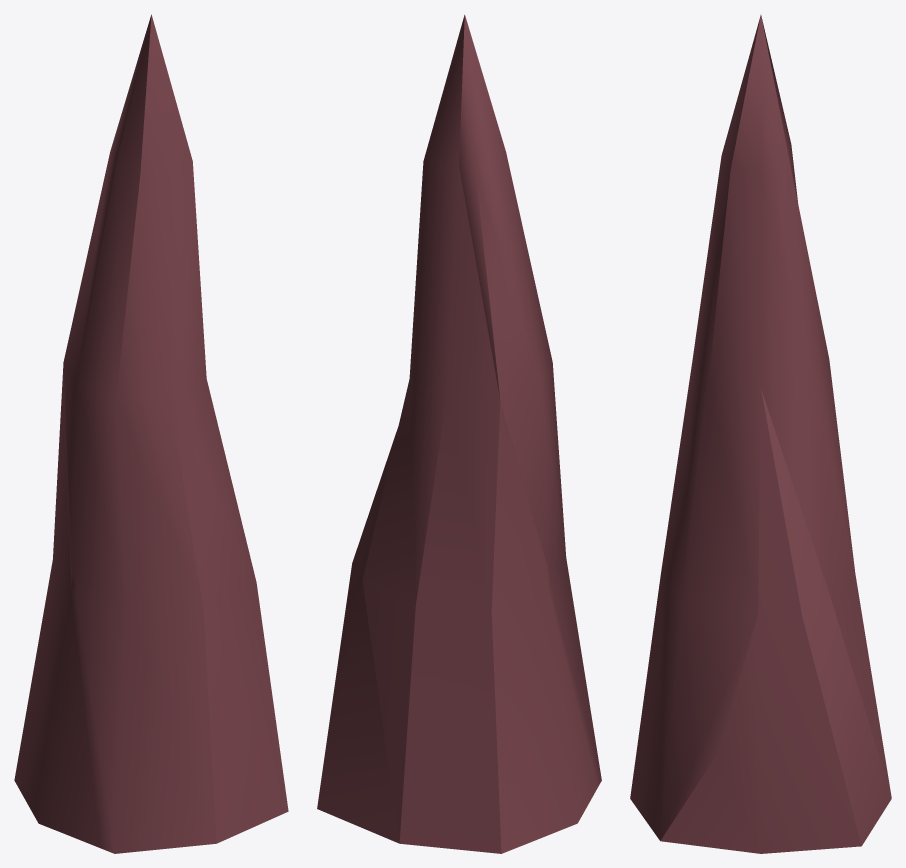
The model's file is sm_stalactite.fbx.
3 views of the same model, side by side, from view 1: azimuth 30°, elevation 25°; view 2: azimuth 150°, elevation 25°; view 3: azimuth 270°, elevation 25° (orthographic).
Visible parts, largest first — view 1: Cube; view 2: Cube; view 3: Cube.
Part boxes in pixels (x1=…): Cube: x1=14, y1=14, x2=288, y2=853; Cube: x1=317, y1=14, x2=601, y2=853; Cube: x1=630, y1=15, x2=891, y2=853.
Size of the model in its own units: 199 by 658 by 199.
